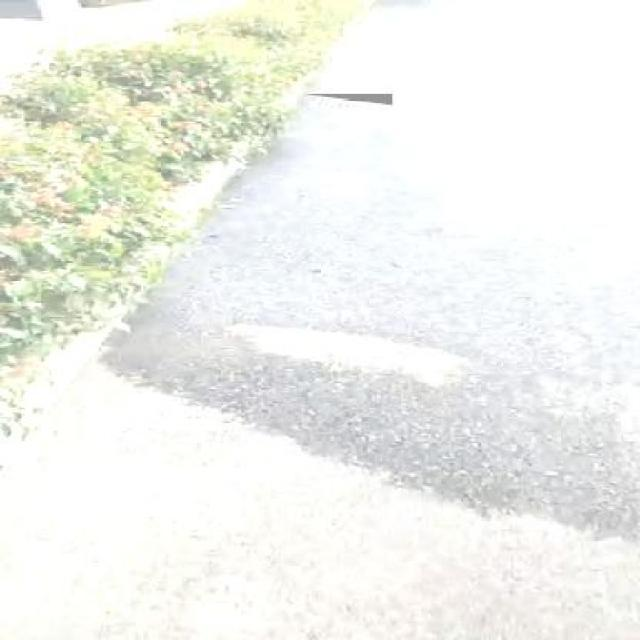Manhole: (302, 94, 392, 108)
